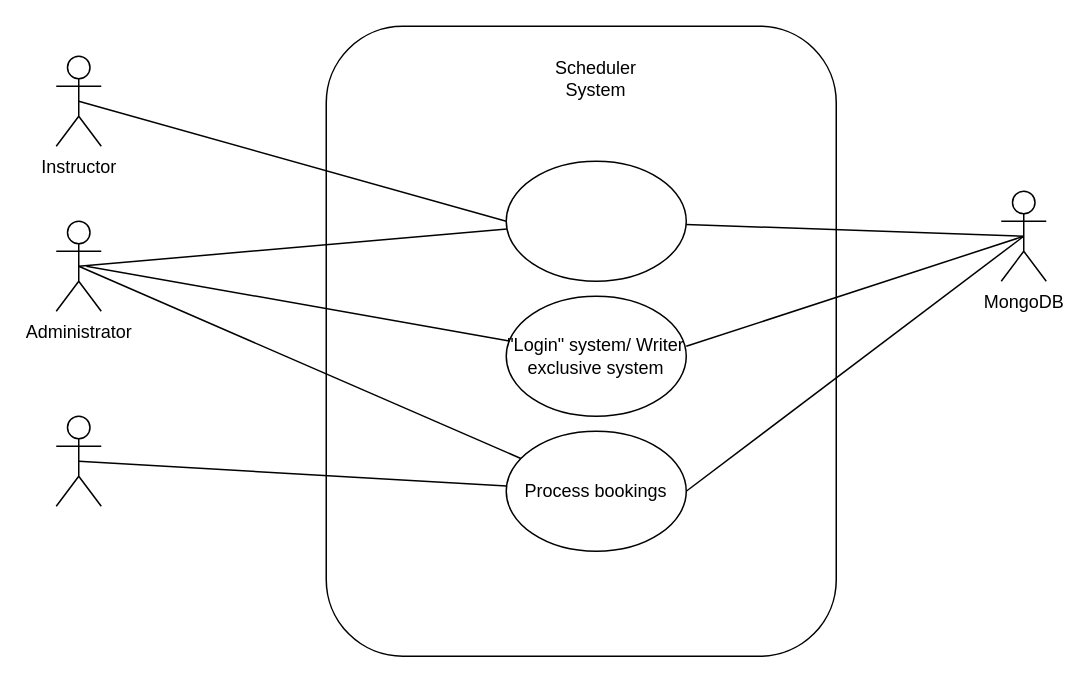
Some shapes in this 1089 by 683 pixel diagram are drawn without their labels. The box of each missing label's shape, as (x1, y1, x2, y2) in pixels:
Client: (55, 415, 101, 506)
Process offerings: (505, 160, 686, 281)
